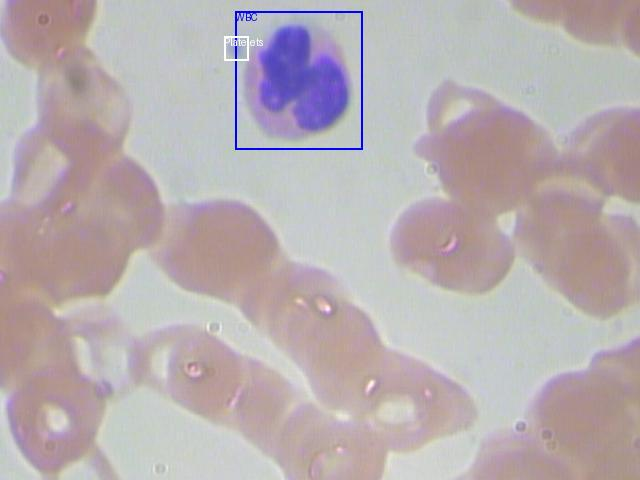Platelets: (224, 36, 248, 60)
WBC: (235, 11, 362, 149)
